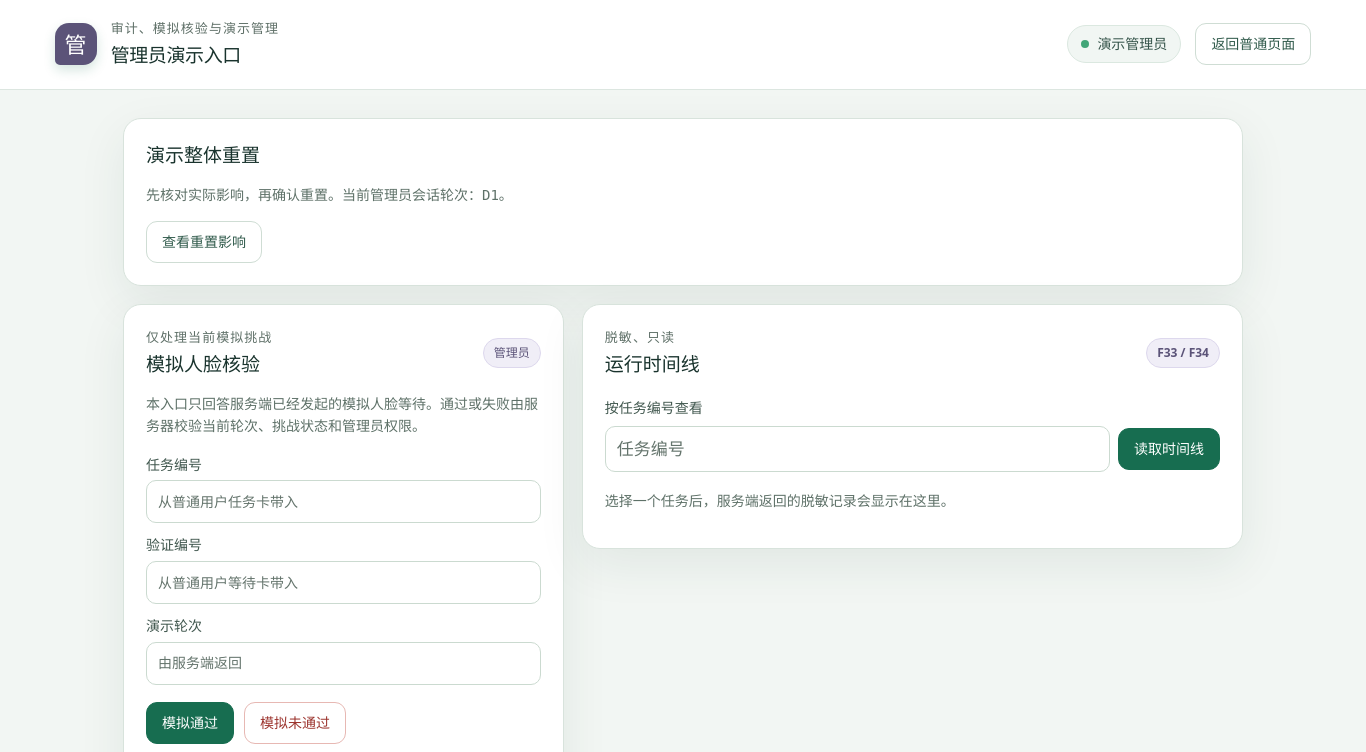
administrator demo reset › retains a request rejected by the server rather than starting a second reset
Click the button "查看重置影响" at (204, 242), box left=146, top=221, right=262, bottom=263
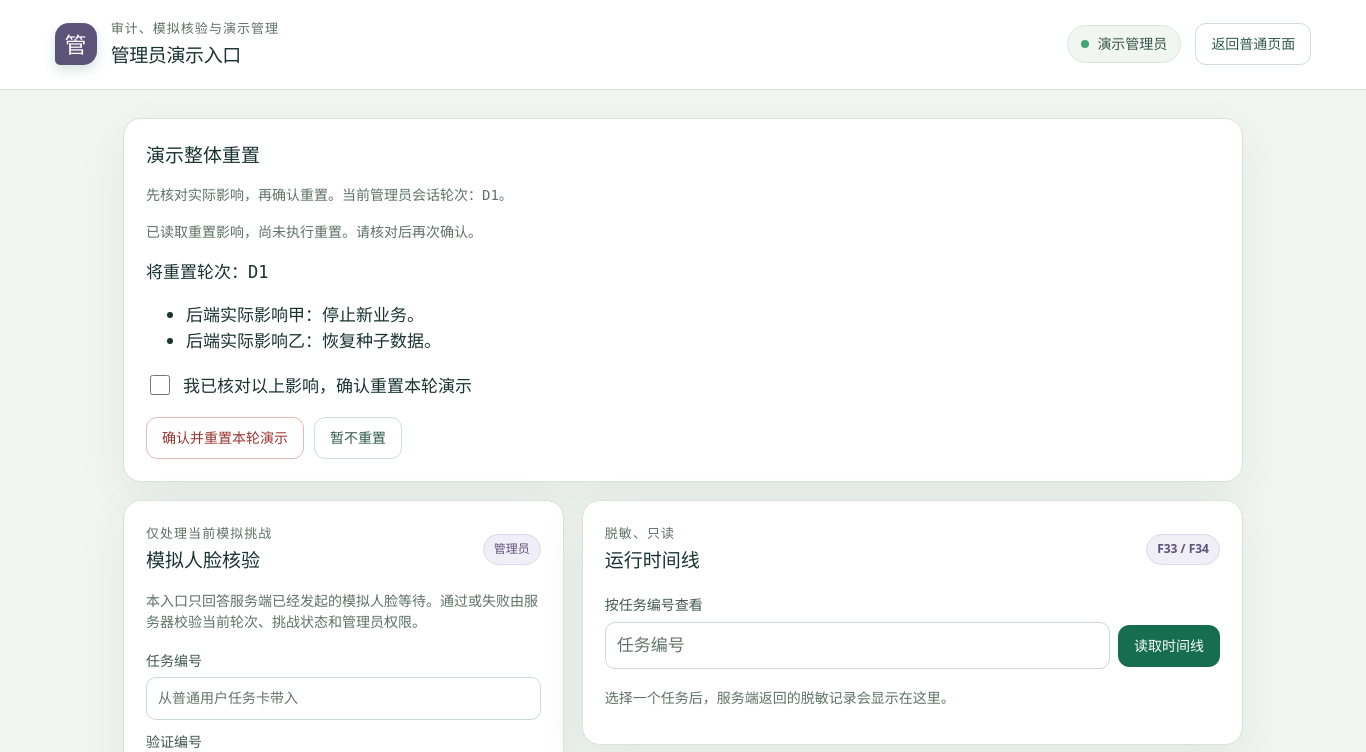
Check: the list item "后端实际影响甲：停止新业务。" is shown, box left=186, top=303, right=424, bottom=326
Click the checkbox labelled "我已核对以上影响，确认重置本轮演示" at (160, 385), box left=150, top=375, right=170, bottom=395
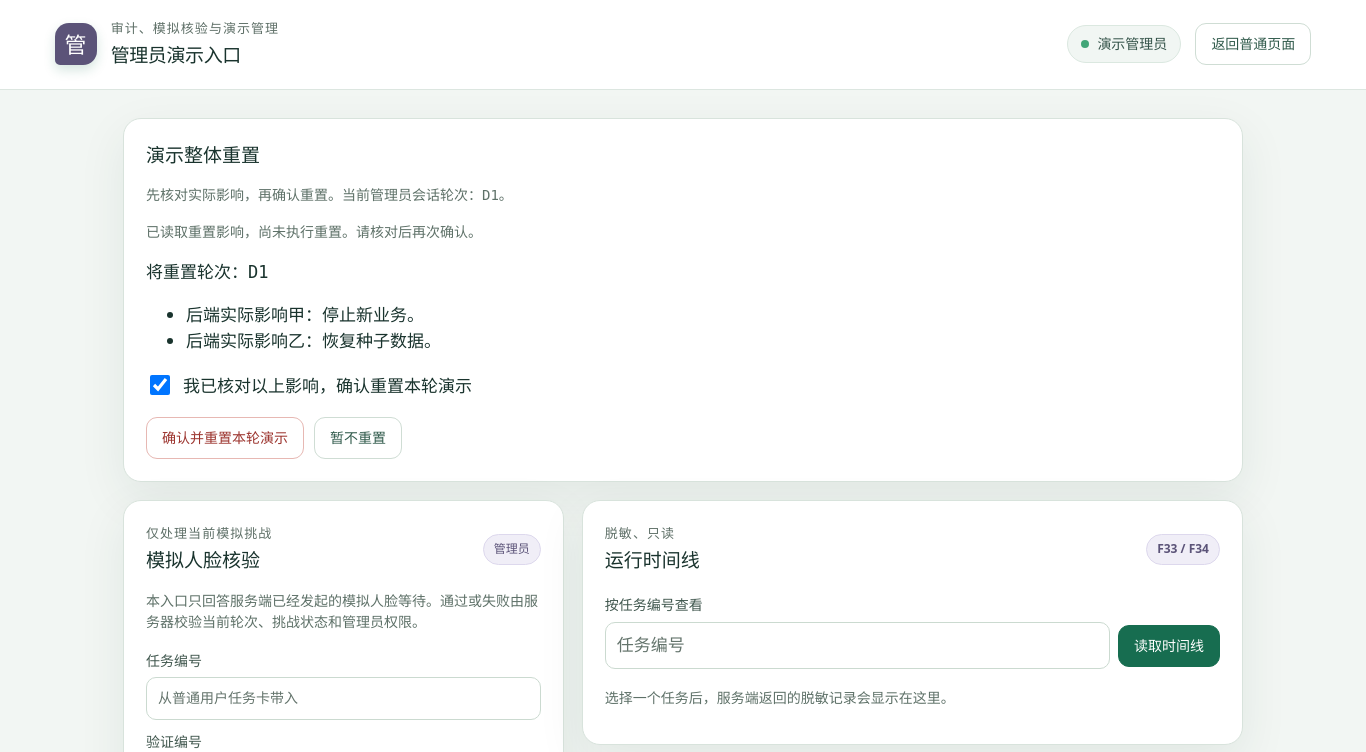
Click the button "确认并重置本轮演示" at (225, 438), box left=146, top=417, right=304, bottom=459
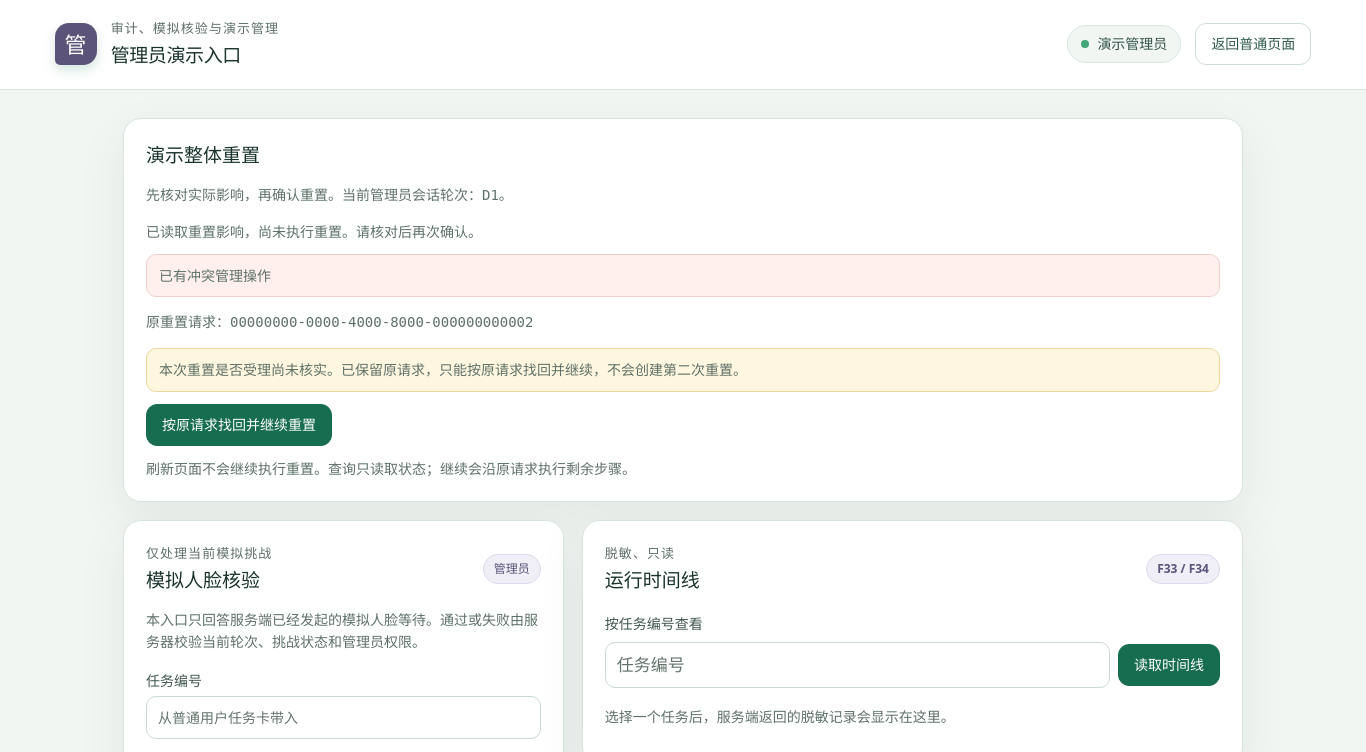
Check: the button "查看重置影响" is not shown
Check: the text "已有冲突管理操作" is shown, box left=146, top=254, right=1220, bottom=297
Check: the button "按原请求找回并继续重置" is shown, box left=146, top=404, right=332, bottom=446
